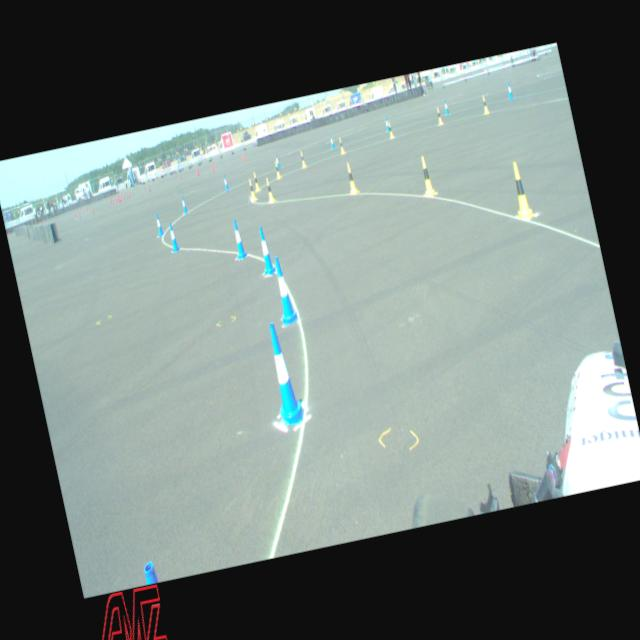blue_cone: (260, 320, 306, 426), (270, 254, 298, 324), (255, 225, 275, 275), (230, 218, 248, 259), (167, 220, 180, 252), (154, 212, 164, 236), (180, 195, 188, 213), (506, 81, 514, 99), (442, 99, 450, 114), (222, 174, 229, 190), (328, 134, 334, 149), (274, 154, 280, 168), (384, 117, 388, 131)
unknown_cone: (90, 207, 94, 214), (110, 198, 114, 205), (114, 196, 118, 203), (117, 193, 120, 202), (243, 153, 246, 162), (210, 163, 213, 171), (214, 160, 217, 168), (85, 205, 88, 212), (122, 193, 125, 200), (125, 192, 128, 198), (212, 164, 214, 173), (116, 194, 118, 202), (148, 184, 150, 192), (179, 173, 181, 180), (78, 211, 80, 218), (120, 191, 122, 198), (128, 191, 130, 198), (196, 169, 198, 176), (242, 153, 244, 160), (72, 209, 74, 215), (75, 212, 77, 218), (110, 198, 112, 204), (109, 194, 111, 200), (119, 196, 121, 202), (197, 168, 199, 174), (43, 217, 45, 222), (82, 207, 84, 212), (78, 206, 80, 210), (40, 220, 41, 224)
yellow_cone: (507, 160, 533, 219), (417, 154, 435, 197), (343, 161, 358, 194), (264, 177, 275, 202), (246, 177, 256, 201), (480, 94, 489, 114), (251, 170, 260, 190), (435, 107, 443, 125), (273, 160, 281, 178), (387, 120, 394, 138), (299, 150, 306, 167), (338, 136, 344, 154)
